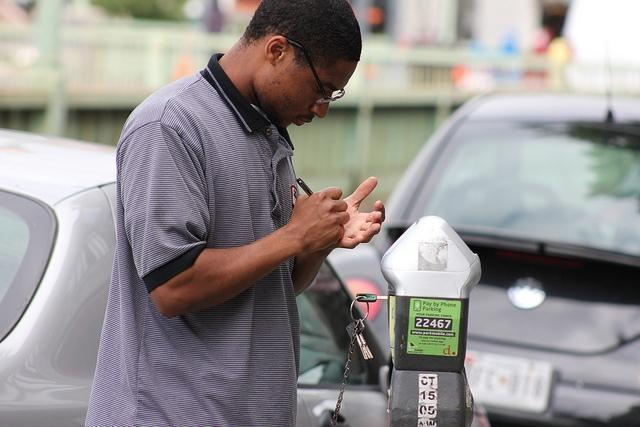car: (323, 90, 640, 422), (0, 127, 119, 422)
